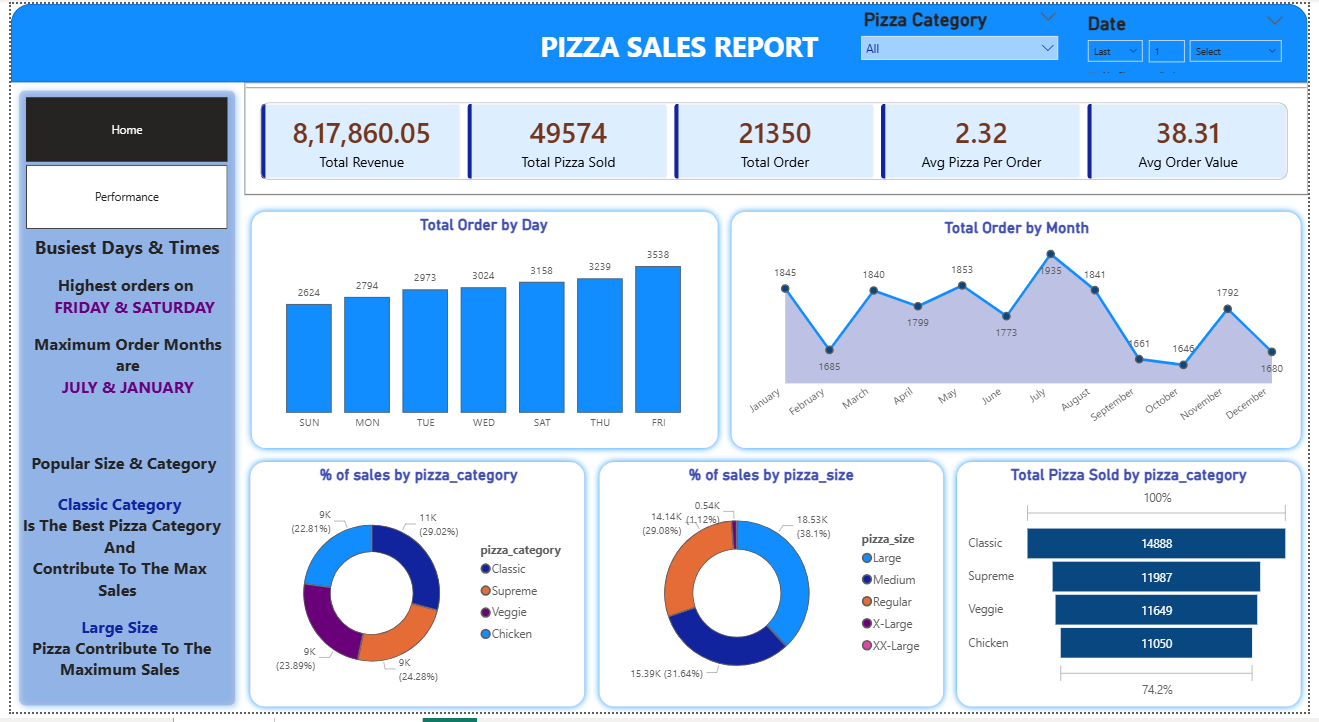

What the dashboard file says about the page in this screenshot:
{"tool":"powerbi","page":{"name":"Home","canvas":[1500,820],"ordinal":0},"visuals":[{"type":"shape","box":[0,90.7,268.8,730.1],"z":0},{"type":"textbox","box":[17.5,260.9,233.8,46.1],"z":1000},{"type":"cardVisual","fields":{"Data":["public pizza_sales.Total Revenue","public pizza_sales.Total Pizza Sold","public pizza_sales.Total Order","public pizza_sales.Avg Pizza Per Order","public pizza_sales.Avg Order Value"]},"box":[270.4,90.7,1229.5,130.4],"z":2000},{"type":"shape","box":[0,0,1499.9,90.7],"z":3000},{"type":"textbox","box":[572.6,22.3,400.8,57.3],"z":4000},{"type":"shape","box":[270.4,232.2,555.1,289.5],"z":5000},{"type":"columnChart","title":"Total Order by Day","fields":{"Category":["public pizza_sales.Order Day"],"Y":["public pizza_sales.Total Order"]},"box":[286.3,245,521.7,257.7],"z":6000},{"type":"shape","box":[825.5,232.2,674.4,289.5],"z":7000},{"type":"areaChart","title":"Total Order by Month","fields":{"Category":["public pizza_sales.Month Name"],"Y":["public pizza_sales.Total Order"]},"box":[843,248.1,641,257.7],"z":8000},{"type":"shape","box":[268.8,521.7,402.4,299],"z":9000},{"type":"shape","box":[1086.4,521.7,413.6,299],"z":10000},{"type":"shape","box":[672.8,521.7,413.6,299],"z":11000},{"type":"donutChart","title":"% of sales by pizza_category","fields":{"Category":["public pizza_sales.pizza_category"],"Y":["public pizza_sales.Total Order"]},"box":[286.3,534.4,370.6,273.6],"z":12000},{"type":"donutChart","title":"% of sales by pizza_size ","fields":{"Category":["public pizza_sales.pizza_size"],"Y":["CountNonNull(public pizza_sales.pizza_size)"]},"box":[690.3,534.4,378.6,273.6],"z":13000},{"type":"funnel","fields":{"Category":["public pizza_sales.pizza_category"],"Y":["public pizza_sales.Total Pizza Sold"]},"box":[1102.3,534.4,381.7,273.6],"z":14000},{"type":"textbox","box":[9.5,307,251.3,198.8],"z":15000},{"type":"textbox","box":[0,559.9,251.3,248.1],"z":16000},{"type":"textbox","box":[9.5,512.2,241.8,46.1],"z":17000},{"type":"slicer","fields":{"Values":["public pizza_sales.pizza_category"]},"box":[973.4,0,248.1,79.5],"z":18000},{"type":"slicer","fields":{"Values":["public pizza_sales.order_date"]},"box":[1232.7,4.8,251.3,74.8],"z":19000},{"type":"pageNavigator","box":[17.5,108.2,233.8,74.8],"z":19001},{"type":"pageNavigator","box":[17.5,186.1,233.8,74.8],"z":19002}]}

Visuals, with their boxes in screenshot pixels (x1, y1, x2, y2), scaled from the page's 1500x820 canvas onto the 1319x722 screenshot:
shape: (left=0, top=80, right=236, bottom=721)
textbox: (left=15, top=230, right=221, bottom=270)
cardVisual - public pizza_sales.Total Revenue x public pizza_sales.Total Pizza Sold: (left=238, top=80, right=1318, bottom=195)
shape: (left=0, top=0, right=1318, bottom=80)
textbox: (left=504, top=20, right=856, bottom=70)
shape: (left=238, top=204, right=726, bottom=459)
"Total Order by Day" columnChart: (left=252, top=216, right=711, bottom=443)
shape: (left=726, top=204, right=1318, bottom=459)
"Total Order by Month" areaChart: (left=741, top=218, right=1305, bottom=445)
shape: (left=236, top=459, right=590, bottom=721)
shape: (left=955, top=459, right=1318, bottom=721)
shape: (left=592, top=459, right=955, bottom=721)
"% of sales by pizza_category" donutChart: (left=252, top=471, right=578, bottom=711)
"% of sales by pizza_size " donutChart: (left=607, top=471, right=940, bottom=711)
funnel - public pizza_sales.pizza_category x public pizza_sales.Total Pizza Sold: (left=969, top=471, right=1305, bottom=711)
textbox: (left=8, top=270, right=229, bottom=445)
textbox: (left=0, top=493, right=221, bottom=711)
textbox: (left=8, top=451, right=221, bottom=492)
slicer - public pizza_sales.pizza_category: (left=856, top=0, right=1074, bottom=70)
slicer - public pizza_sales.order_date: (left=1084, top=4, right=1305, bottom=70)
pageNavigator: (left=15, top=95, right=221, bottom=161)
pageNavigator: (left=15, top=164, right=221, bottom=230)
